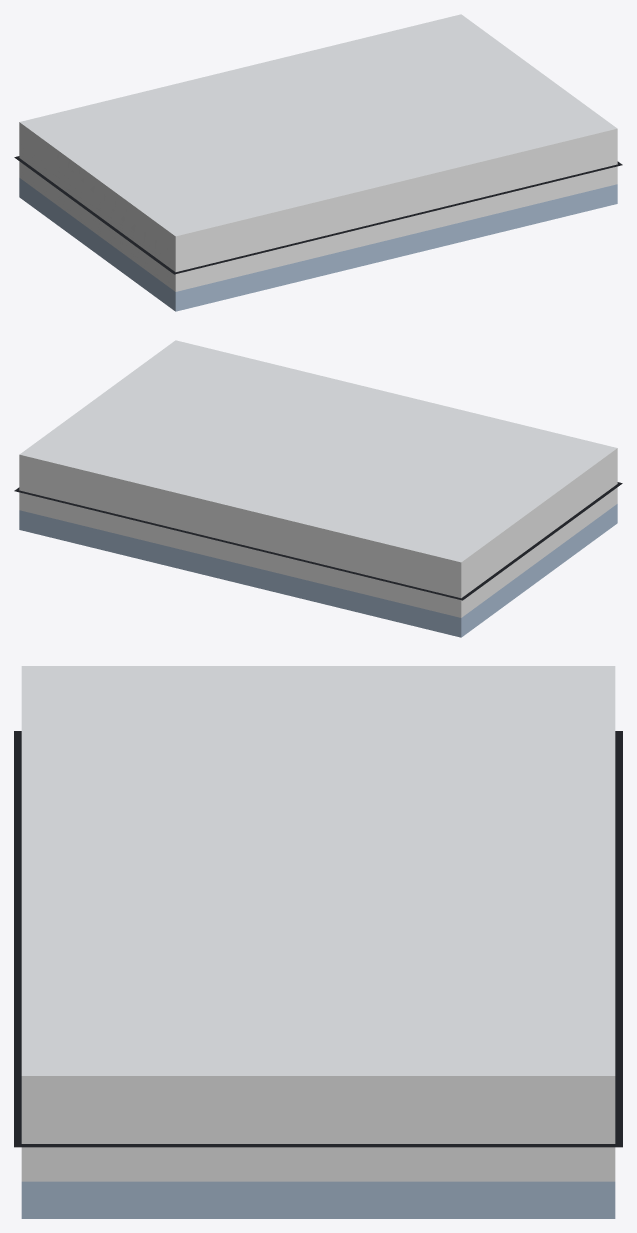
File: building.glb
3 renders of one model, top to bottom at view 1: azimuth 30°, elevation 25°; view 2: azimuth 150°, elevation 25°; view 3: azimuth 270°, elevation 25°, orthographic. The views are drawn at different scales.
Parts seen in each view (by area): view 1: ceiling, walls_low, walls_high; view 2: ceiling, walls_low, walls_high; view 3: ceiling, walls_low, walls_high.
Boxes of the visible parts, box(x1,y1,x2,y2) form: ceiling: box(20, 14, 616, 236); walls_low: box(14, 156, 622, 311); walls_high: box(19, 122, 617, 272); ceiling: box(20, 340, 616, 562); walls_low: box(14, 482, 622, 637); walls_high: box(19, 448, 617, 598); ceiling: box(21, 666, 615, 1075); walls_low: box(14, 731, 622, 1218); walls_high: box(21, 1076, 615, 1143).
Size of the model in its own units: 26.2 by 4.2 by 16.2.
